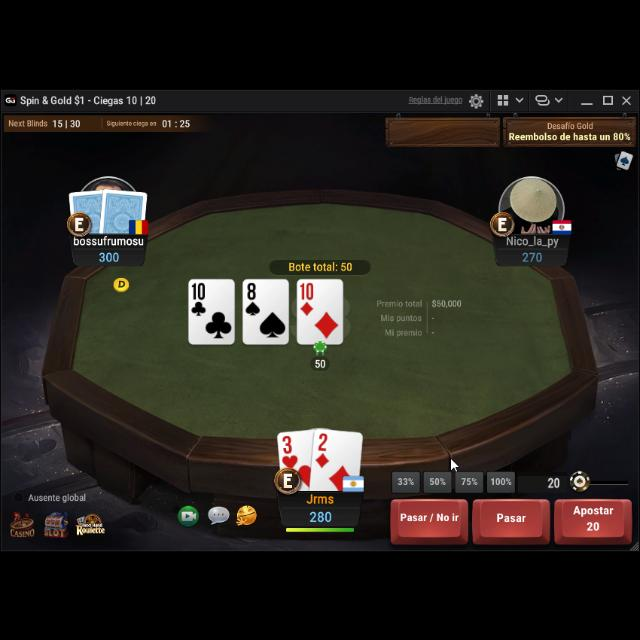2d: (313, 430, 331, 470)
3h: (280, 433, 300, 467)
8s: (243, 280, 260, 316)
Tc: (190, 281, 208, 317)
Td: (299, 280, 315, 316)
card_back: (98, 185, 148, 235), (66, 186, 110, 234)
dealer: (111, 272, 131, 292)
hero_active: (388, 494, 632, 544)
pot_text: (287, 259, 355, 271)
stack_text: (306, 506, 334, 524), (520, 248, 544, 262), (98, 248, 120, 262)
